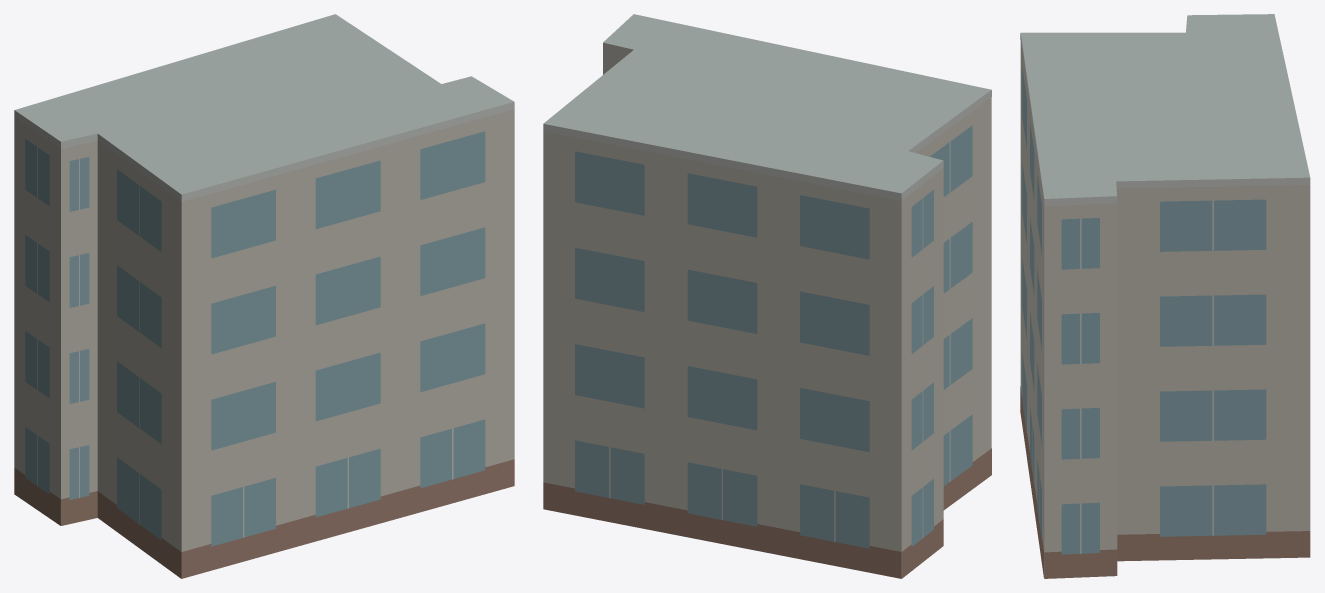
File: survey-upis-32733337.glb
3 views of the same model, side by side, from view 1: azimuth 30°, elevation 25°; view 2: azimuth 150°, elevation 25°; view 3: azimuth 270°, elevation 25° (orthographic).
Parts seen in each view (by area): view 1: survey-upis-32733337.tmp; view 2: survey-upis-32733337.tmp; view 3: survey-upis-32733337.tmp.
Part boxes in pixels (<box>): survey-upis-32733337.tmp: <box>14,14,514,578</box>; survey-upis-32733337.tmp: <box>543,14,991,578</box>; survey-upis-32733337.tmp: <box>1020,14,1310,578</box>.
Size of the model in its own units: 13.49 by 12.9 by 8.93.
